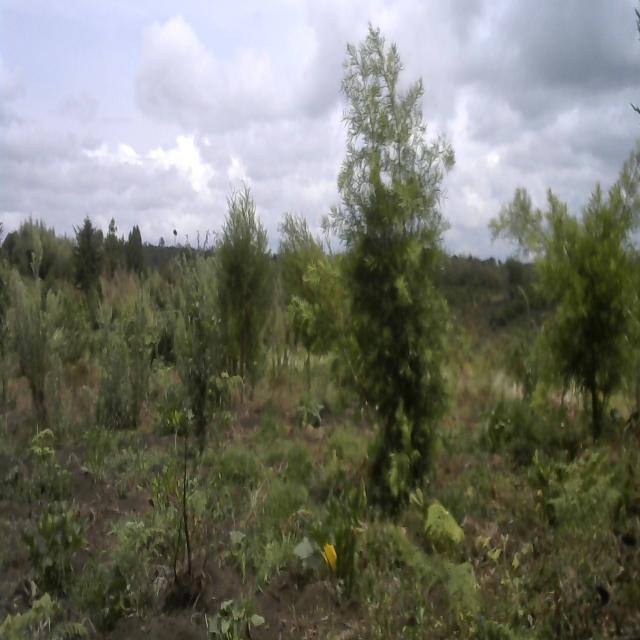Juniperus procesera: (218, 190, 272, 372), (69, 214, 103, 292)
Podocarpus falcatus: (338, 27, 461, 495), (496, 164, 640, 414)
